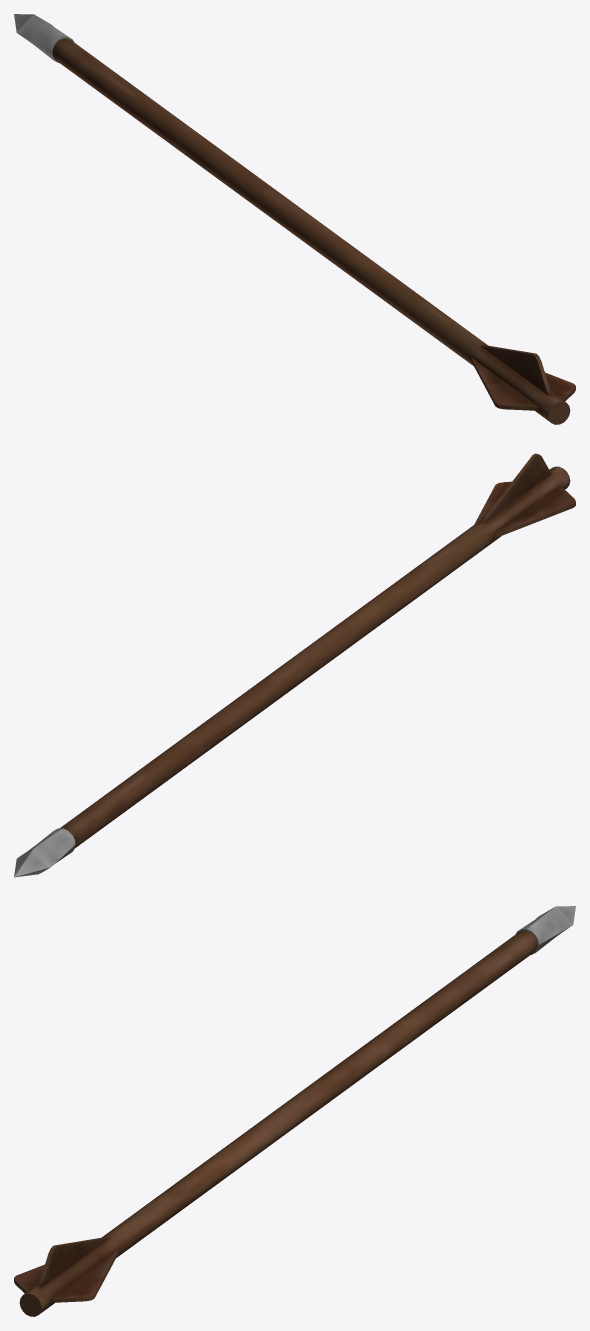
Rendered from bolt.glb.
3 renders of one model, top to bottom at view 1: azimuth 30°, elevation 25°; view 2: azimuth 150°, elevation 25°; view 3: azimuth 330°, elevation 25°, orthographic.
Visible parts, largest first — view 1: Crossbow_Bolt_10_inch_Arrows_0; view 2: Crossbow_Bolt_10_inch_Arrows_0; view 3: Crossbow_Bolt_10_inch_Arrows_0.
Boxes of the visible parts, x1=… form: Crossbow_Bolt_10_inch_Arrows_0: x1=14, y1=14, x2=575, y2=424; Crossbow_Bolt_10_inch_Arrows_0: x1=14, y1=453, x2=575, y2=877; Crossbow_Bolt_10_inch_Arrows_0: x1=14, y1=906, x2=575, y2=1316.
Size of the model in its own units: 0.0231 by 0.0152 by 0.2793.
1 material, 1 textured.
